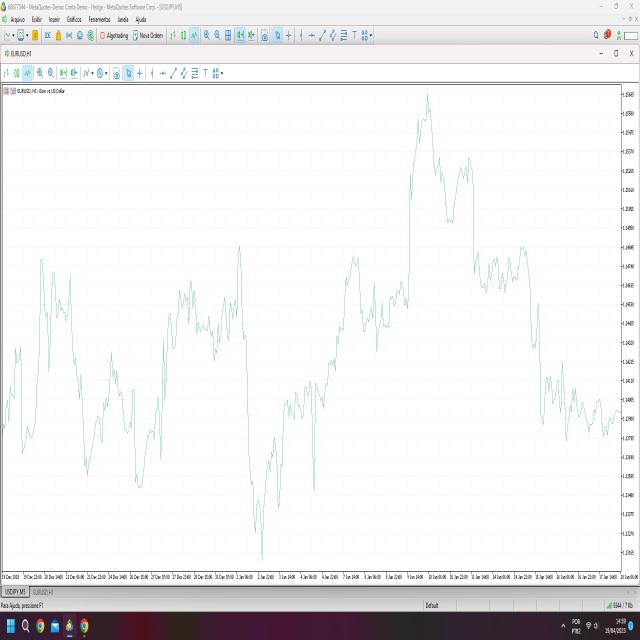bandeira_baixa: (462, 142, 526, 297)
topo_duplo: (403, 83, 479, 329)
